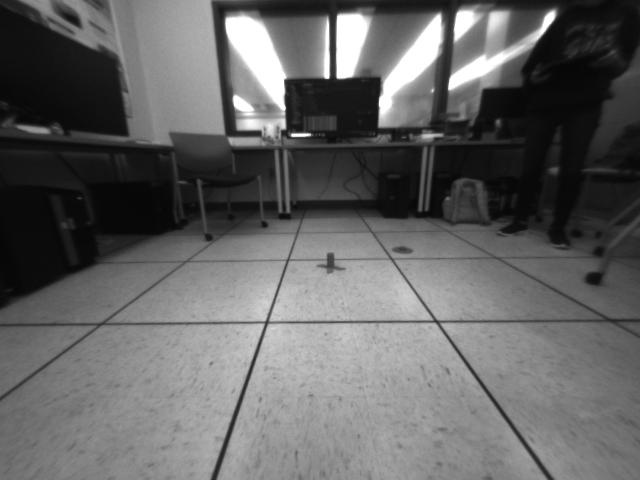X: (316, 251, 348, 275)
